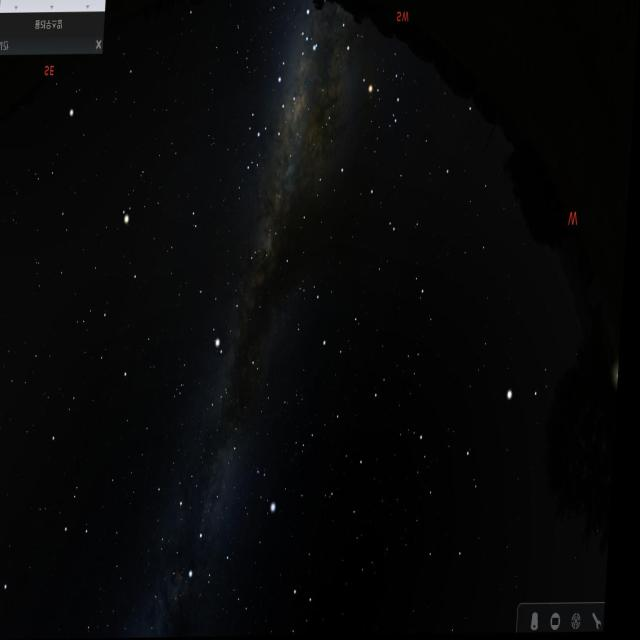aquila: (195, 239, 276, 395)
bootes: (420, 334, 562, 579)
cygnus: (176, 410, 250, 587)
lyra: (249, 457, 291, 517)
sagittarius: (243, 69, 304, 169)
scorpius: (292, 27, 418, 147)
